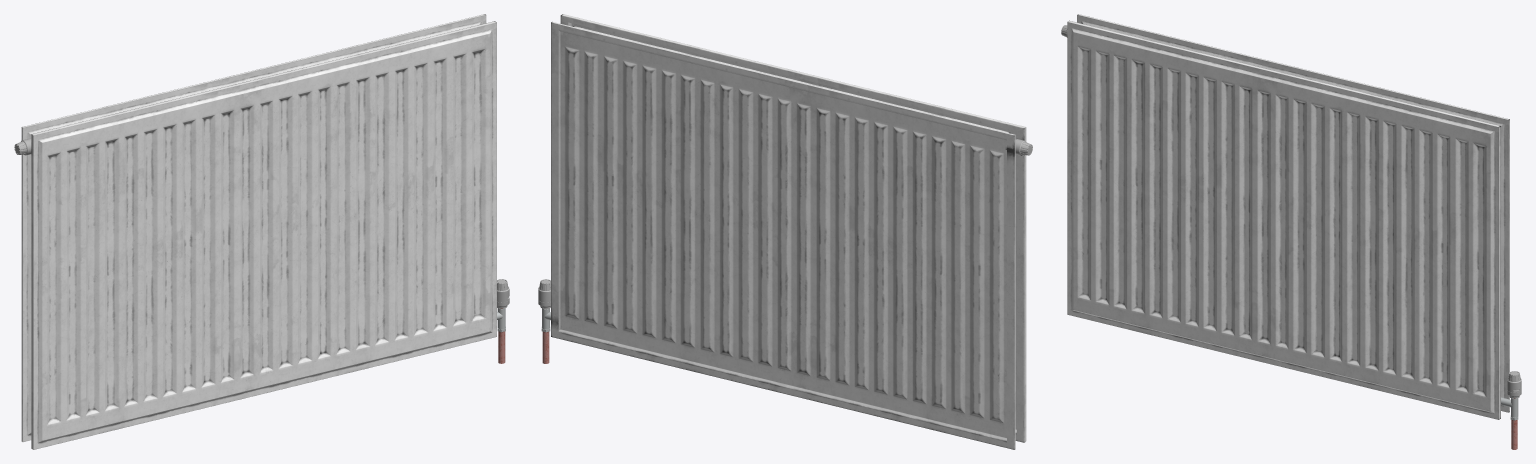
3 renders of one model, left to right at view 1: azimuth 30°, elevation 25°; view 2: azimuth 150°, elevation 25°; view 3: azimuth 330°, elevation 25°, orthographic. The views are drawn at different scales.
Visible parts, largest first — view 1: polySurface49; view 2: polySurface49; view 3: polySurface49.
Boxes of the visible parts, x1,y1,x2,y2 form: polySurface49: [14, 14, 509, 449]; polySurface49: [538, 14, 1032, 449]; polySurface49: [1061, 14, 1521, 449].
Bounding box in the file's own units: 101 × 68.05 × 4.61.
Materials: 1 (1 with a texture image).
